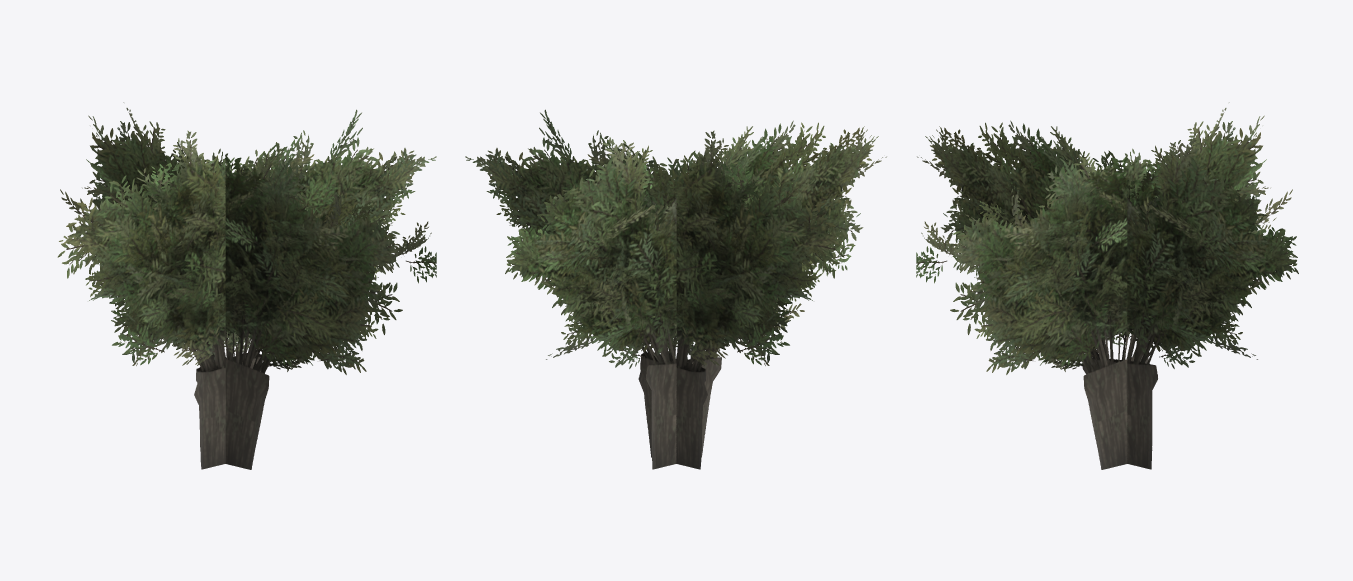
File: vrba_hlavata_2_daleko.glb
The picture shows the model from 3 angles, left to right: view 1: azimuth 30°, elevation 25°; view 2: azimuth 150°, elevation 25°; view 3: azimuth 270°, elevation 25°; orthographic projection.
Parts seen in each view (by area): view 1: vrba_hlavata_2_daleko; view 2: vrba_hlavata_2_daleko; view 3: vrba_hlavata_2_daleko.
Part boxes in pixels (x1,y1,x2,y2): vrba_hlavata_2_daleko: (57,102,436,469); vrba_hlavata_2_daleko: (465,109,886,469); vrba_hlavata_2_daleko: (916,102,1298,469).
Size of the model in its own units: 9.43 by 7.39 by 8.17.
3 materials, 3 textured.
